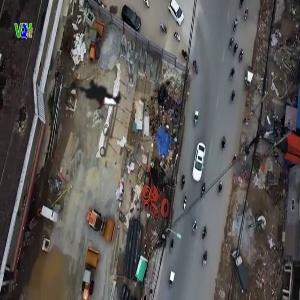drone: (48, 54, 139, 145)
